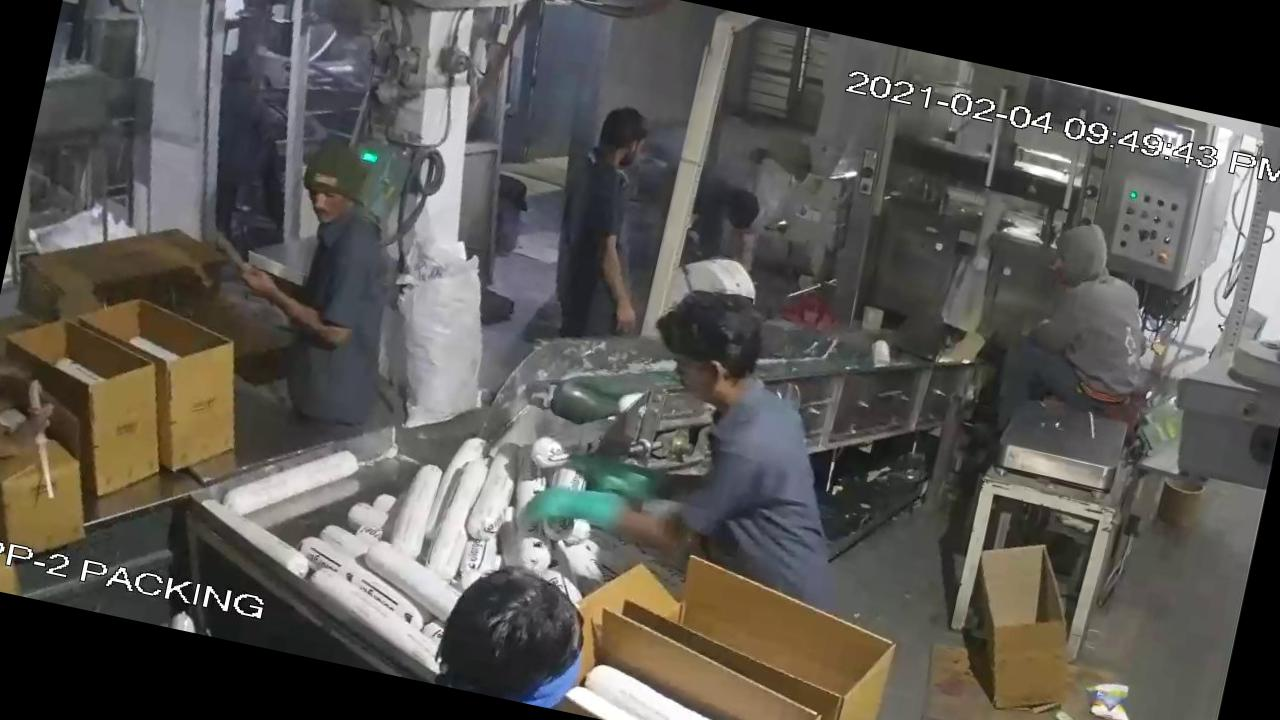Gloves: (514, 451, 638, 564)
No-gloves: (215, 244, 362, 373), (574, 218, 664, 345), (0, 372, 74, 480)
